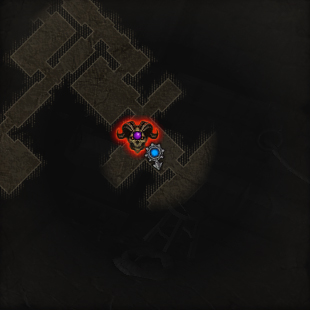Guardian: (110, 118, 163, 157)
